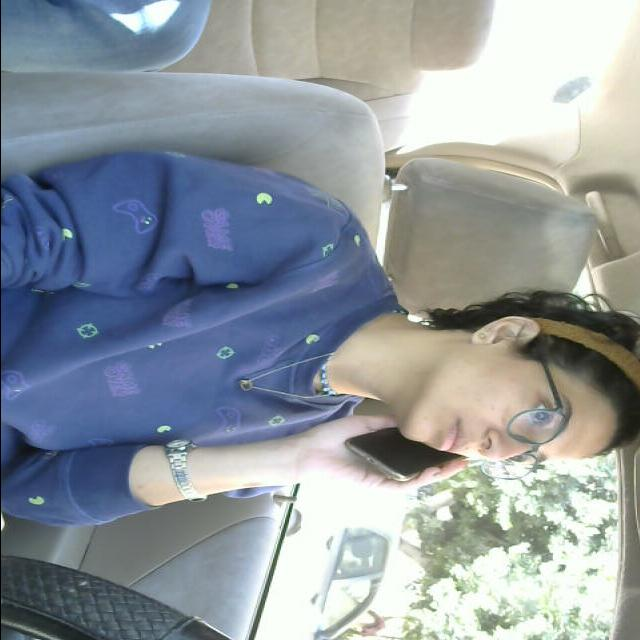mobile use: (348, 424, 480, 484)
